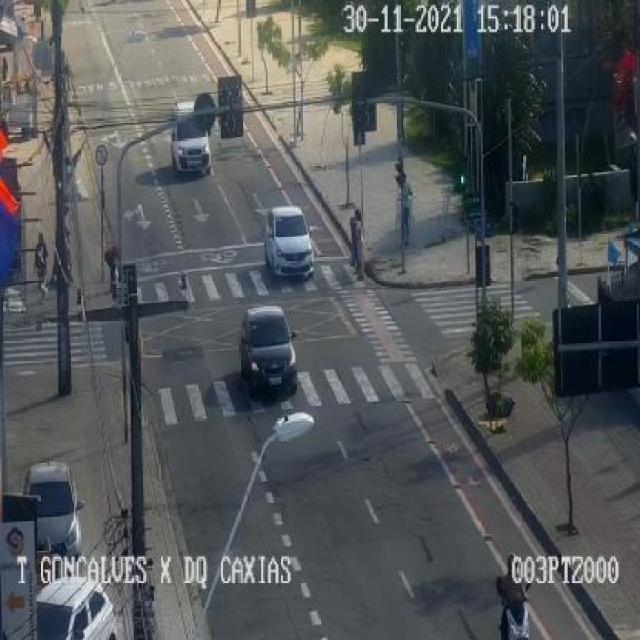Car: (21, 461, 85, 562), (238, 304, 300, 402), (36, 575, 116, 640), (262, 205, 315, 278), (170, 101, 212, 176)
Cycle: (495, 581, 532, 639)
